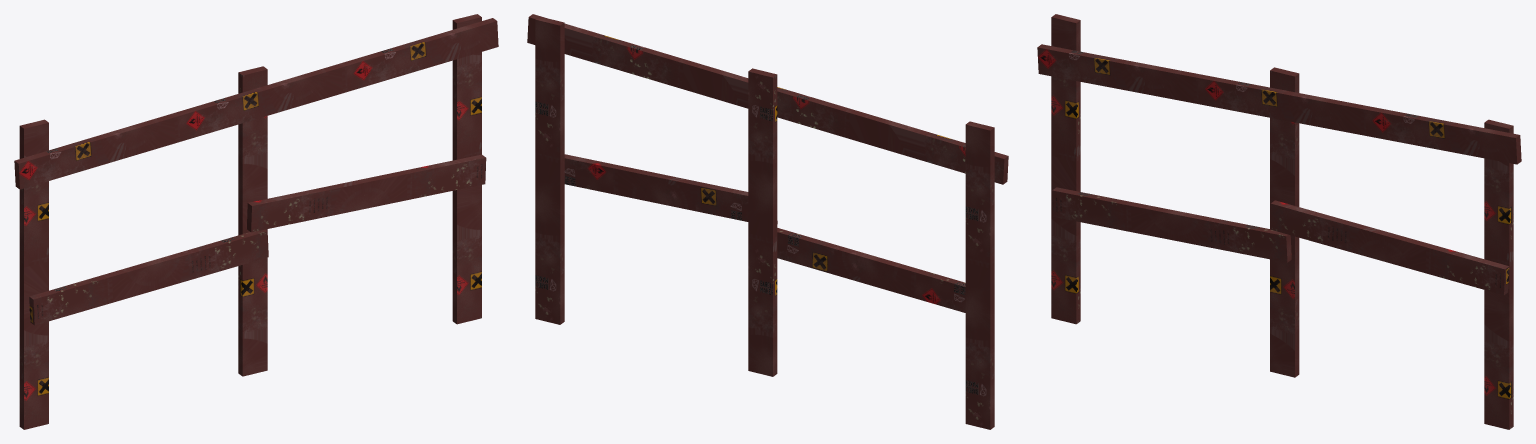
Rendered from CS_fance_inside_01.FBX.
The picture shows the model from 3 angles, left to right: view 1: azimuth 30°, elevation 25°; view 2: azimuth 150°, elevation 25°; view 3: azimuth 330°, elevation 25°; orthographic projection.
Parts seen in each view (by area): view 1: SM_fance_inside_01; view 2: SM_fance_inside_01; view 3: SM_fance_inside_01.
Part boxes in pixels (bbox=[...]): SM_fance_inside_01: bbox=[14, 14, 498, 429]; SM_fance_inside_01: bbox=[527, 14, 1008, 429]; SM_fance_inside_01: bbox=[1037, 14, 1521, 429].
Size of the model in its own units: 192 by 6 by 115.
